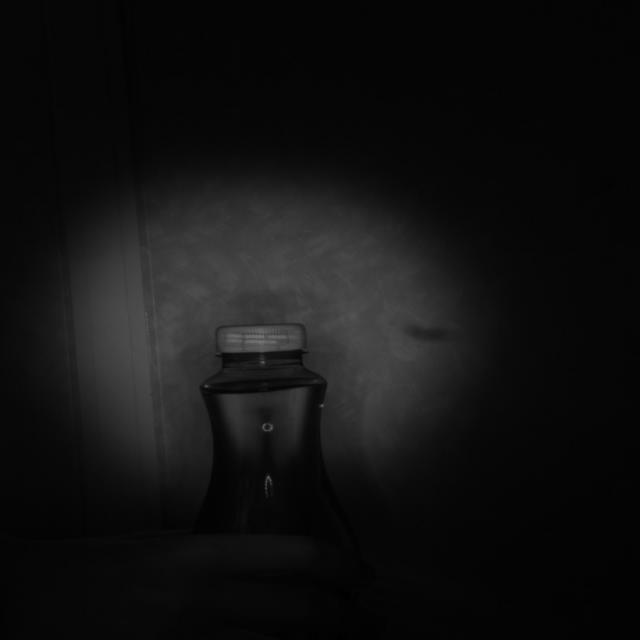Good: (210, 321, 308, 356)
